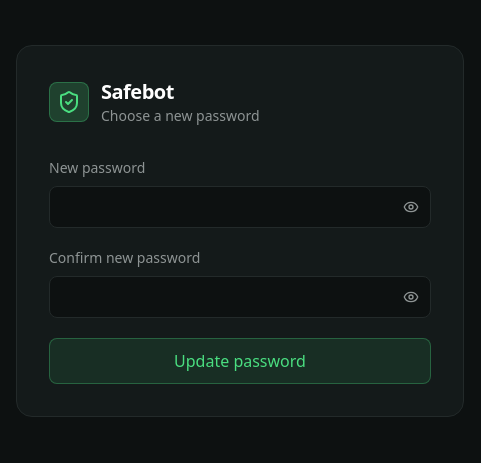
Test case: ResetPasswordPage › shows API error message for invalid or expired token
Type "NewPass123!" into the password field labelled "New password".
click(240, 207); type("NewPass123!")  # box top-left (49, 186), bottom-right (431, 228)
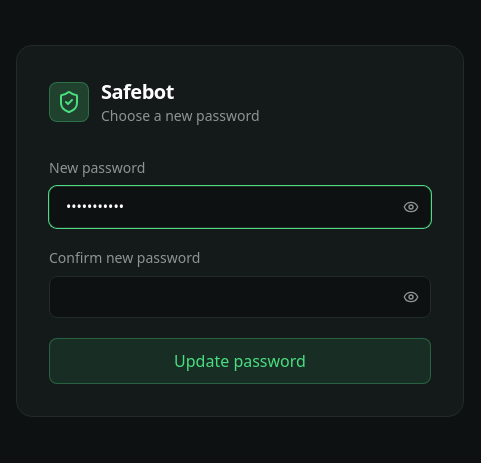
Type "NewPass123!" into the password field labelled "Confirm new password".
click(240, 297); type("NewPass123!")  # box top-left (49, 276), bottom-right (431, 318)
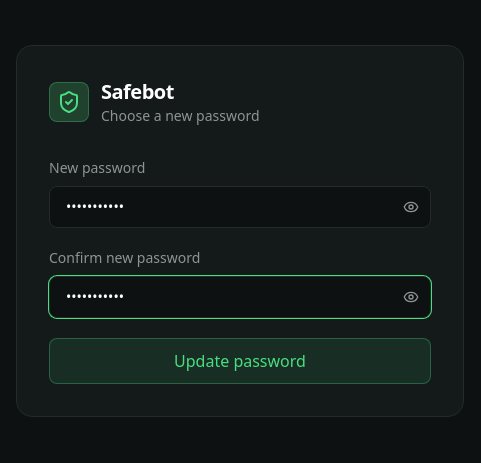
Click the button "Update password".
click(240, 361)  # box top-left (49, 338), bottom-right (431, 384)
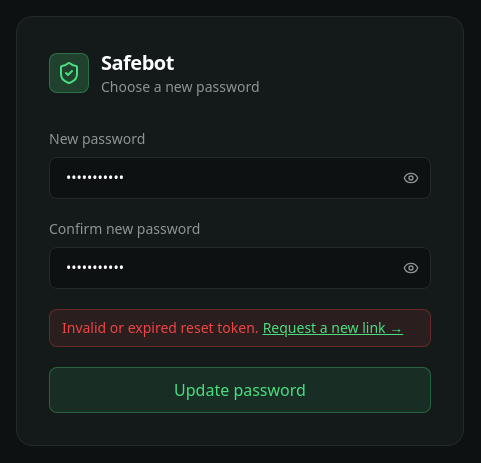
Now the text "Invalid or expired reset token." is shown, box top-left (62, 318), bottom-right (259, 337)
